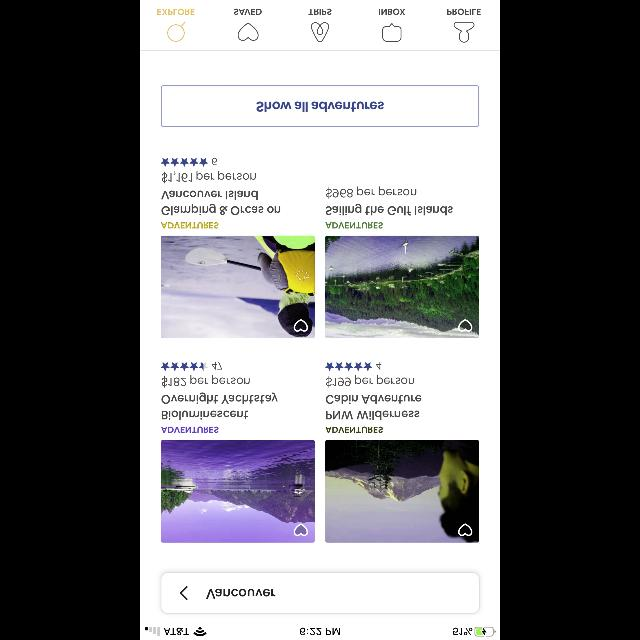icon: (162, 362, 208, 372), (326, 362, 372, 372), (382, 22, 402, 42), (454, 22, 474, 42), (160, 158, 208, 166), (168, 22, 186, 42), (238, 23, 258, 41), (294, 318, 308, 332), (458, 318, 472, 332), (294, 524, 308, 536), (458, 524, 472, 536), (180, 586, 188, 600)
image: (161, 440, 315, 542), (325, 440, 479, 542), (161, 236, 315, 338), (325, 236, 479, 338), (311, 22, 329, 42)
input: (160, 572, 480, 614)
text: (162, 392, 278, 420), (162, 190, 280, 216), (326, 394, 422, 420), (326, 204, 452, 216), (162, 374, 250, 388), (326, 374, 414, 388), (162, 170, 256, 183), (326, 187, 416, 200), (207, 589, 276, 599), (162, 427, 218, 433), (326, 427, 382, 433), (162, 222, 218, 228), (326, 222, 382, 228), (447, 8, 481, 15), (158, 9, 195, 15), (234, 9, 262, 15), (308, 8, 332, 15), (379, 9, 405, 15), (212, 362, 222, 370), (212, 157, 218, 165), (376, 362, 382, 370)
textbutton: (161, 85, 479, 127)
uppertaskbar: (140, 626, 500, 640)
